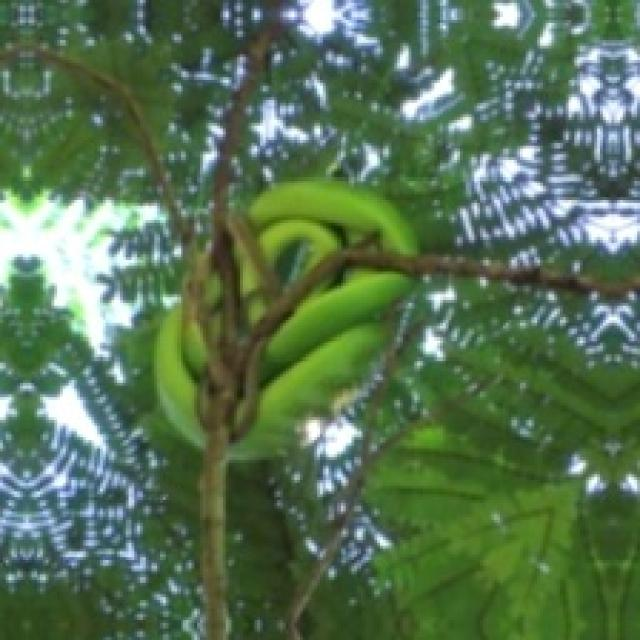red-tailed green ratsnake: (231, 269, 409, 457), (231, 180, 414, 323), (154, 309, 203, 446)
